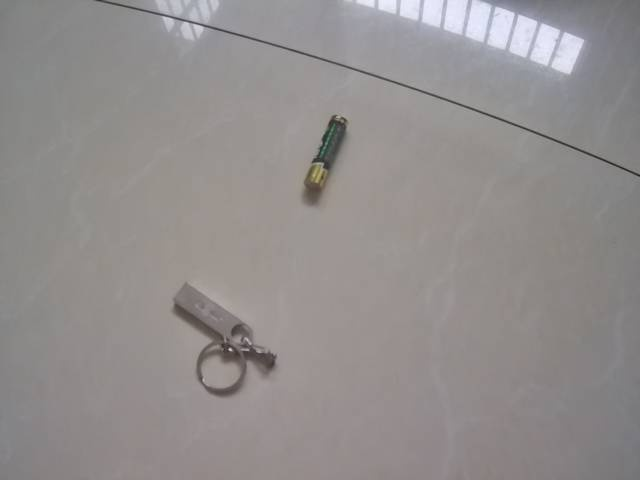U-disk: (166, 273, 285, 399)
battery: (304, 110, 349, 196)
